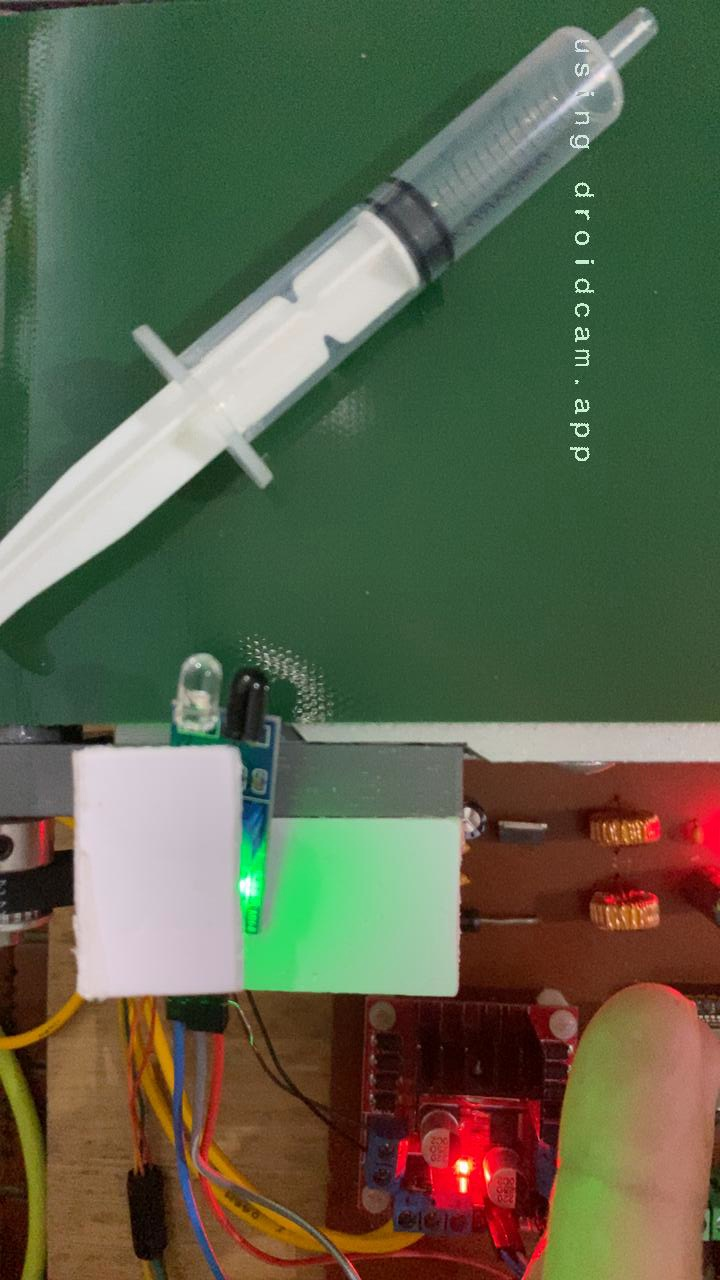syringe: (0, 1, 664, 633)
